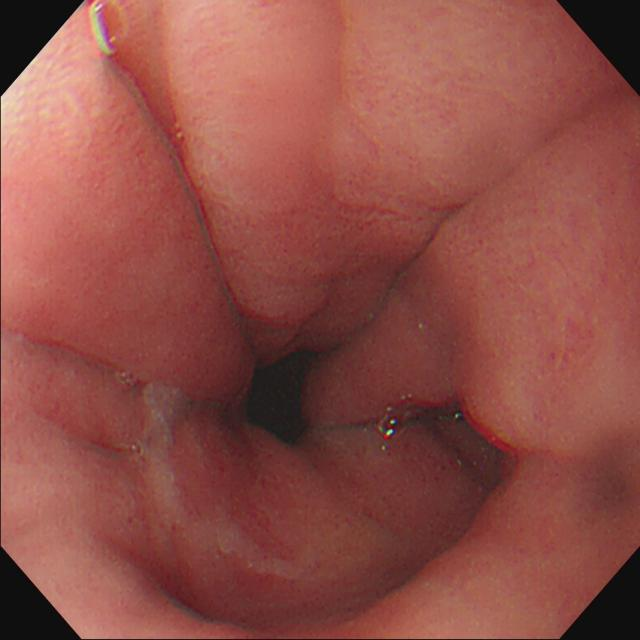A: (208, 176, 415, 331), (354, 29, 513, 167)
E: (248, 353, 308, 443)
J: (155, 512, 309, 583), (142, 385, 196, 510)
U: (87, 2, 112, 63)
